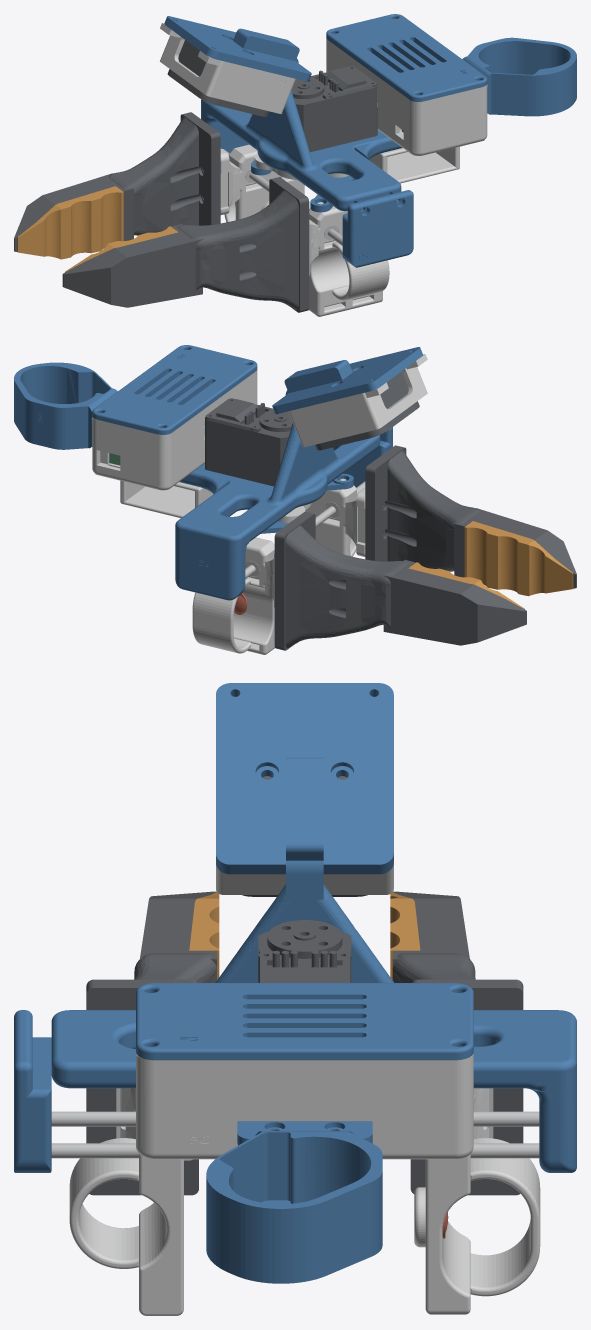
The model's file is umi_right_openarm.glb.
3 views of the same model, one above another, from view 1: azimuth 30°, elevation 25°; view 2: azimuth 150°, elevation 25°; view 3: azimuth 270°, elevation 25° (orthographic). The views are drawn at different scales.
Visible parts, largest first — view 1: tip_thumb, main_support, tip_index, electronics_lid, controller_support, electronics_box, servo_sts3215, thumb_link, tip_index_1, main_support_cover_plate, camera_hood, index_link (+3 smaller); view 2: tip_index, main_support, tip_thumb, electronics_lid, electronics_box, controller_support, servo_sts3215, index_link, tip_thumb_1, camera_hood, thumb_link, hand_support_base (+3 smaller); view 3: main_support, electronics_box, electronics_lid, controller_support, index_link, thumb_link, tip_index, tip_thumb, main_support_cover_plate, servo_sts3215, camera_hood, rod_-8 (+3 smaller).
Part boxes in pixels (bbox=[...]): tip_thumb: bbox=[62, 177, 309, 312]; main_support: bbox=[164, 16, 402, 211]; tip_index: bbox=[14, 112, 220, 251]; electronics_lid: bbox=[326, 14, 487, 101]; controller_support: bbox=[462, 37, 576, 116]; electronics_box: bbox=[326, 39, 487, 155]; servo_sts3215: bbox=[291, 66, 377, 152]; thumb_link: bbox=[309, 202, 389, 316]; tip_index_1: bbox=[17, 186, 123, 259]; main_support_cover_plate: bbox=[342, 190, 413, 267]; camera_hood: bbox=[160, 23, 295, 114]; index_link: bbox=[220, 144, 304, 222]; tip_index: bbox=[274, 512, 526, 650]; main_support: bbox=[175, 347, 422, 600]; tip_thumb: bbox=[365, 445, 576, 588]; electronics_lid: bbox=[92, 345, 257, 434]; electronics_box: bbox=[92, 370, 257, 490]; controller_support: bbox=[14, 362, 117, 449]; servo_sts3215: bbox=[205, 398, 292, 486]; index_link: bbox=[192, 537, 274, 654]; tip_thumb_1: bbox=[464, 521, 573, 596]; camera_hood: bbox=[288, 354, 427, 447]; thumb_link: bbox=[305, 478, 365, 556]; hand_support_base: bbox=[95, 474, 213, 518]; main_support: bbox=[51, 683, 576, 1172]; electronics_box: bbox=[136, 1053, 473, 1159]; electronics_lid: bbox=[136, 983, 473, 1060]; controller_support: bbox=[206, 1121, 382, 1283]; index_link: bbox=[414, 1088, 540, 1314]; thumb_link: bbox=[69, 1088, 192, 1315]; tip_index: bbox=[392, 891, 523, 1195]; tip_thumb: bbox=[86, 891, 216, 1195]; main_support_cover_plate: bbox=[14, 1010, 51, 1172]; servo_sts3215: bbox=[258, 920, 351, 982]; camera_hood: bbox=[216, 863, 393, 894]; rod_-8: bbox=[51, 1143, 539, 1158].
Bounding box in the file's own units: 0.2966 × 0.1471 × 0.15.
